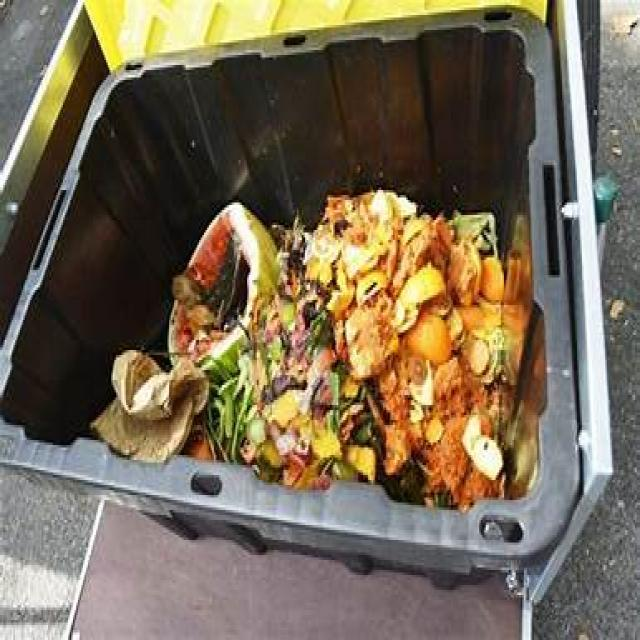Garbage: (92, 188, 538, 508)
